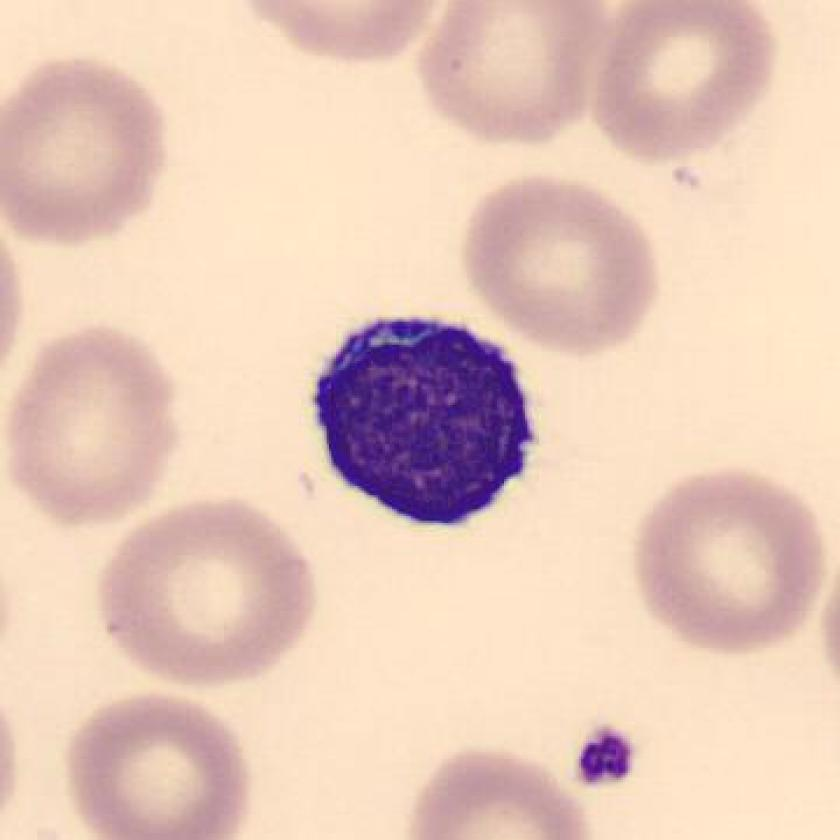lymphocyte: (300, 304, 545, 540)
